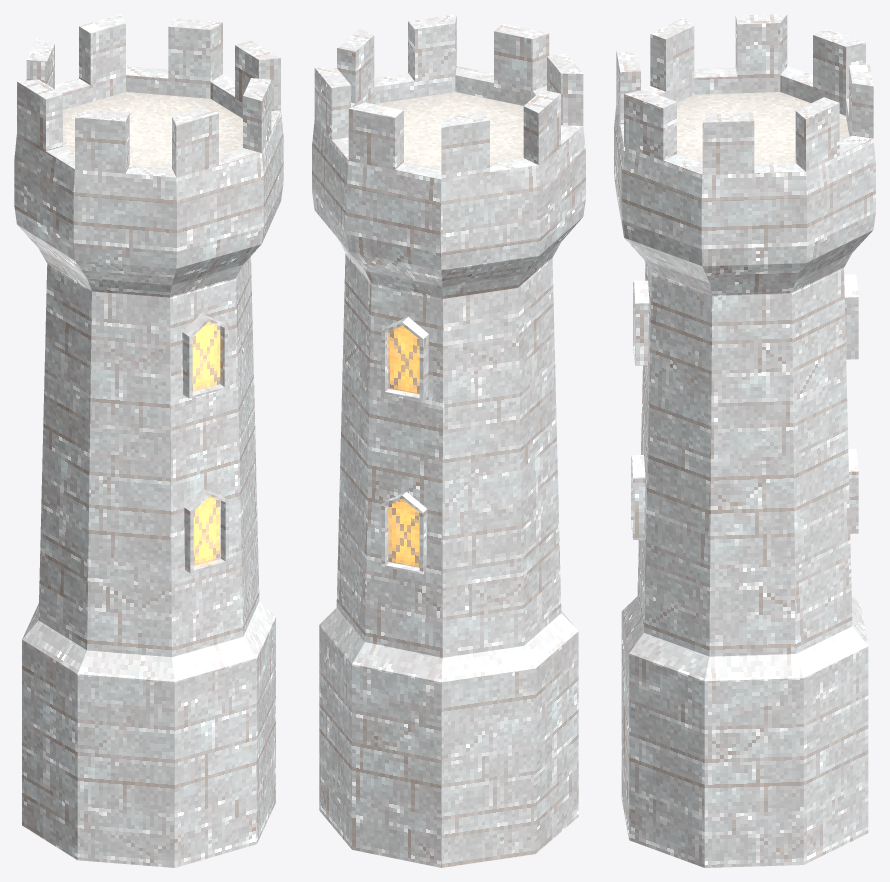
Rendered from tower.glb.
3 views of the same model, side by side, from view 1: azimuth 30°, elevation 25°; view 2: azimuth 150°, elevation 25°; view 3: azimuth 270°, elevation 25° (orthographic).
Parts seen in each view (by area): view 1: Tower; view 2: Tower; view 3: Tower.
Part boxes in pixels (x1,y1,x2,y2): Tower: [14, 14, 283, 867]; Tower: [312, 14, 585, 867]; Tower: [614, 14, 875, 867].
Size of the model in its own units: 5.9 by 18.58 by 5.9.
